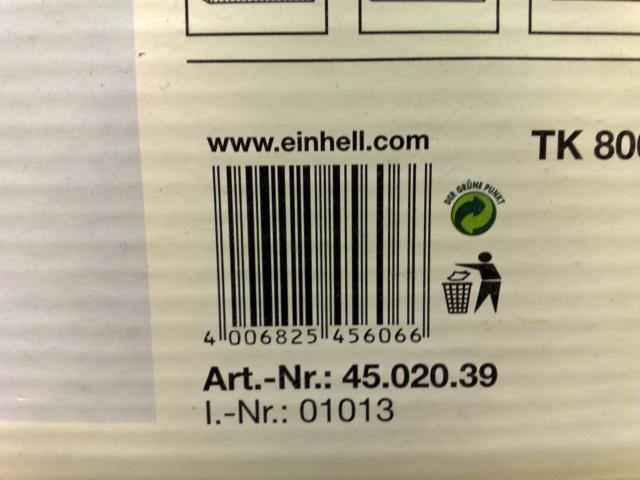Barcode: (191, 160, 444, 354)
